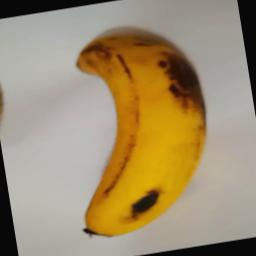Banana Unripe: (50, 26, 228, 240)
